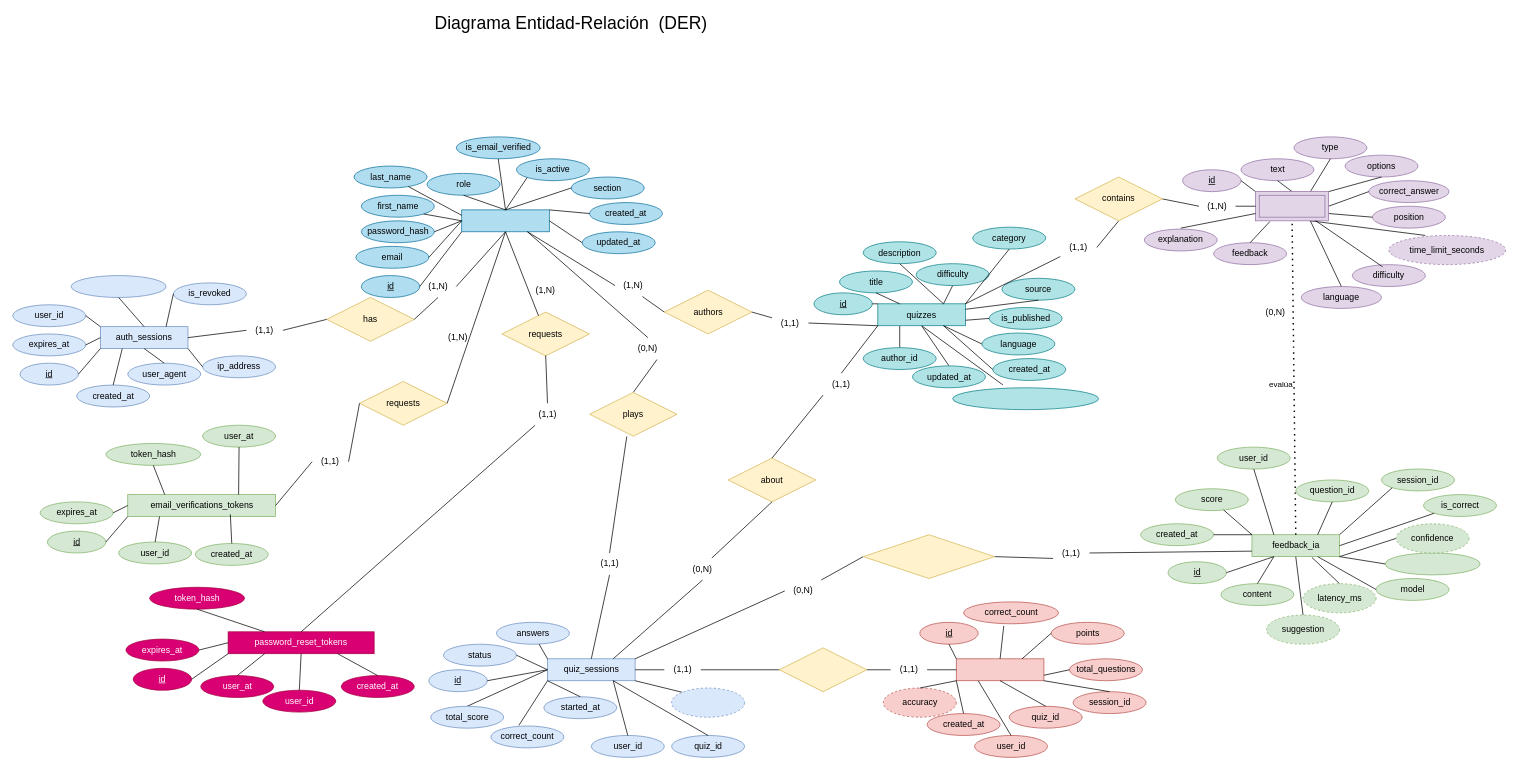
Image size: 1518x770. Some labels were removed from this diagram. The shapes that lost their labels are listed below. From the top down, each one's box as (x1, y1, x2, y2) in pixels, then its label:
(461, 209, 549, 232): users
(1255, 191, 1329, 221): questions
(70, 275, 166, 297): refresh_token_hash
(952, 387, 1099, 410): time_per_question_seconds
(862, 534, 995, 579): produces feedback
(1384, 552, 1480, 575): strategy_used
(779, 647, 867, 692): generates
(956, 658, 1044, 681): scores
(671, 687, 745, 717): completed_at
